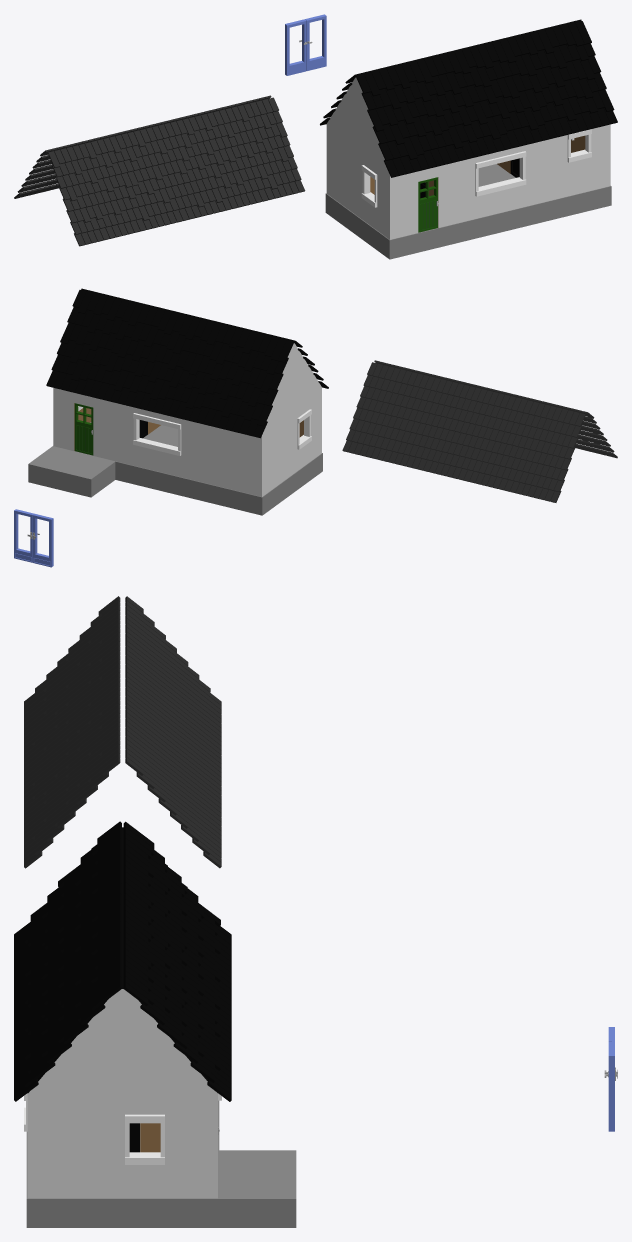
The model's file is HouseTextureTest2.fbx.
3 renders of one model, top to bottom at view 1: azimuth 30°, elevation 25°; view 2: azimuth 150°, elevation 25°; view 3: azimuth 270°, elevation 25°, orthographic. The views are drawn at different scales.
Visible parts, largest first — view 1: Roof 2, House, Roof, Door Front, Door Garden 1, Door Garden 2; view 2: House, Roof 2, Roof, Door Back, Door Garden 1, Door Garden 2; view 3: House, Roof 2, Roof.
Part boxes in pixels (x1,y1,x2,y2): Roof 2: (320, 19, 617, 177); House: (325, 77, 611, 259); Roof: (14, 95, 305, 246); Door Front: (418, 177, 438, 232); Door Garden 1: (285, 19, 307, 75); Door Garden 2: (305, 14, 326, 70); House: (28, 343, 322, 515); Roof 2: (46, 288, 328, 438); Roof: (342, 360, 617, 502); Door Back: (74, 403, 93, 455); Door Garden 1: (32, 514, 53, 567); Door Garden 2: (14, 509, 34, 562); House: (24, 827, 296, 1227); Roof 2: (14, 821, 231, 1101); Roof: (24, 596, 221, 868).
Size of the model in its own units: 2413 by 695 by 1570.
